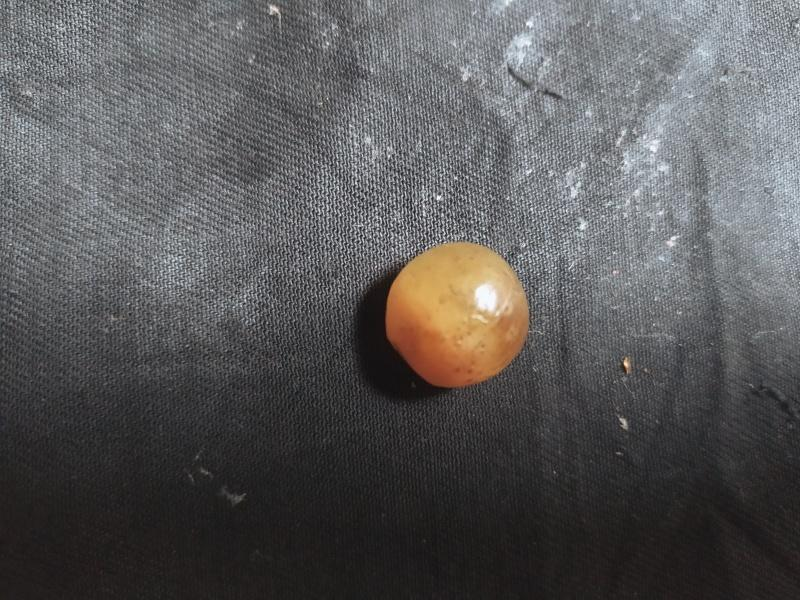Grape Rotten: (381, 238, 531, 391)
